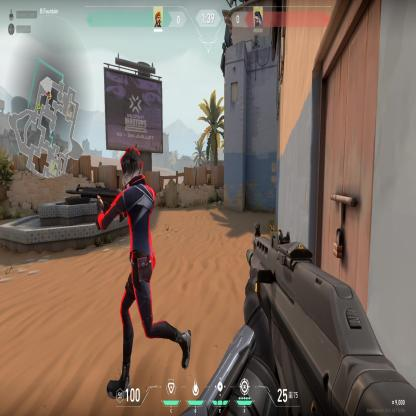enemy: (106, 144, 191, 400)
